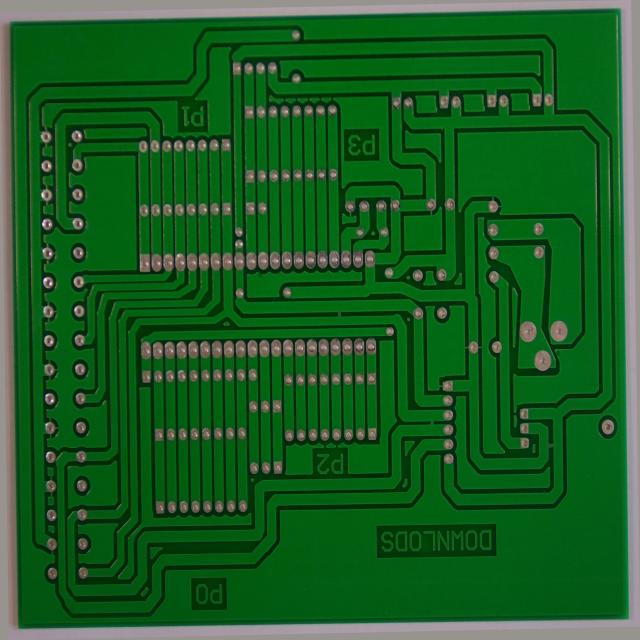short: (538, 437, 563, 468), (330, 301, 351, 328), (423, 414, 442, 441)
